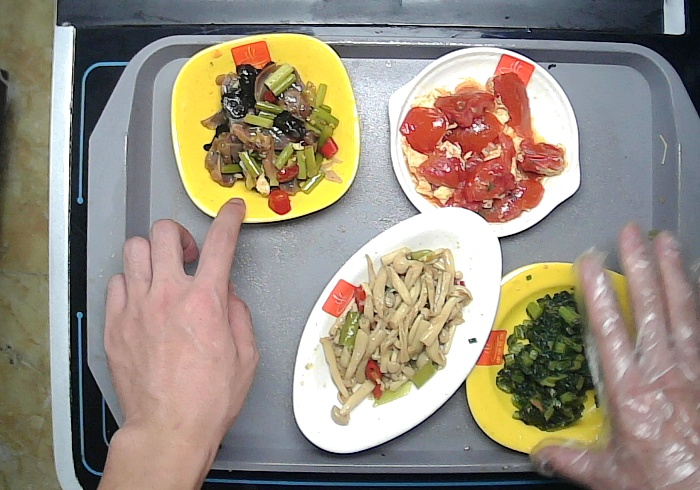SHKJ-Bao_Yu_Pan: (383, 42, 584, 241)
SHKJ-Huang_Se_Cai_Die: (166, 29, 362, 229)
SHKJ-Huang_Se_Si_Fang_Cai_Die: (464, 257, 642, 461)
SHKJ-Yu_Pan: (289, 203, 504, 458)
